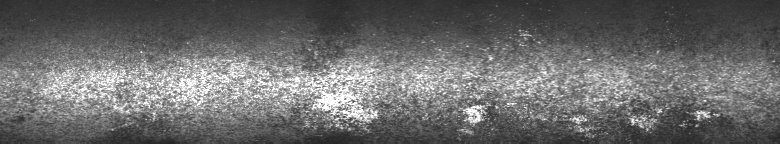kb: (4, 40, 420, 136)
